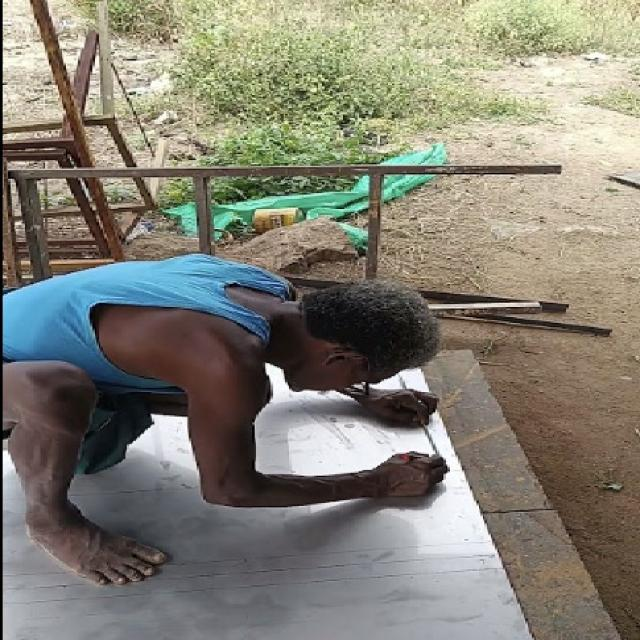no-boots: (7, 446, 171, 594)
no-gloves: (206, 425, 458, 535), (362, 376, 450, 431)
no-helmet: (282, 253, 445, 400)
no-vest: (15, 217, 277, 408)
person: (0, 190, 482, 613)
